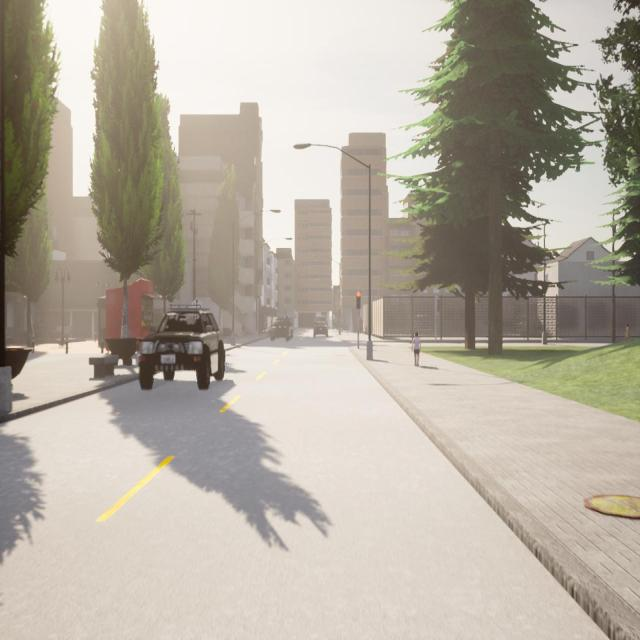Pedestrian: (412, 331, 421, 366), (624, 323, 631, 342)
Vehicle: (139, 308, 225, 389), (270, 318, 294, 342), (313, 321, 329, 338)
traffic_light: (356, 292, 361, 310), (437, 299, 439, 313)
